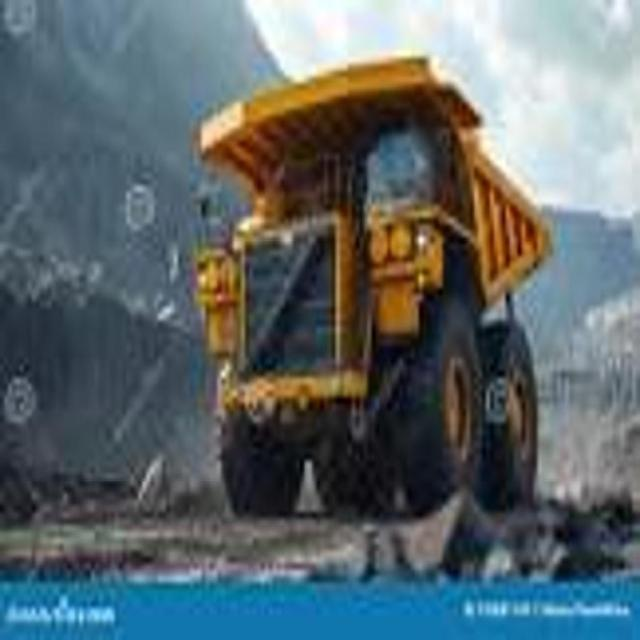dump_truck: (167, 58, 565, 512)
